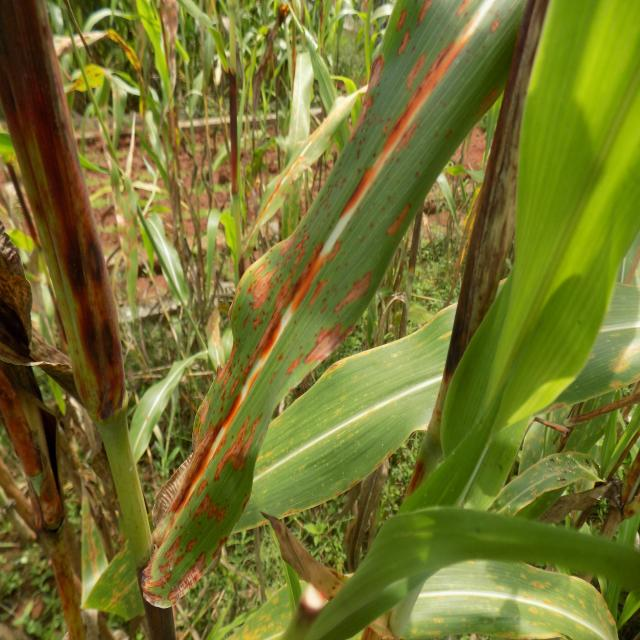millet_healthy: (145, 250, 640, 537), (399, 0, 640, 513), (363, 543, 620, 640)
millet_rust: (144, 0, 532, 608), (246, 83, 365, 257), (135, 0, 181, 137)
